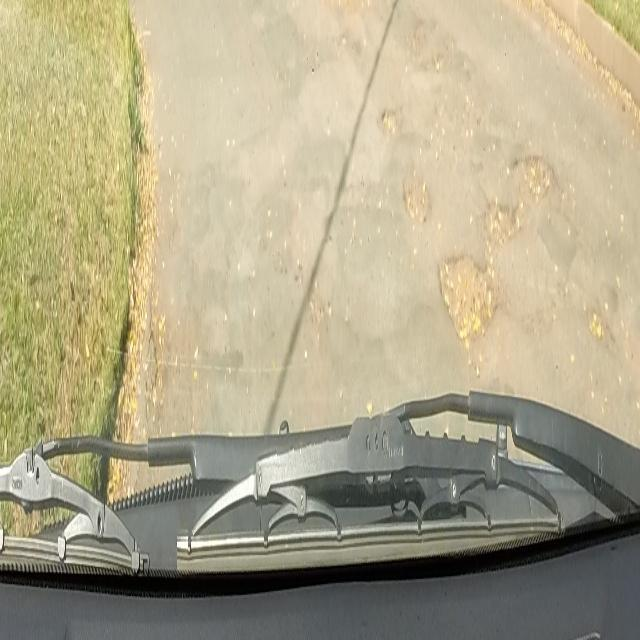pothole: (436, 246, 496, 358), (482, 196, 521, 246), (400, 165, 430, 223), (522, 149, 552, 199), (382, 98, 401, 138)
